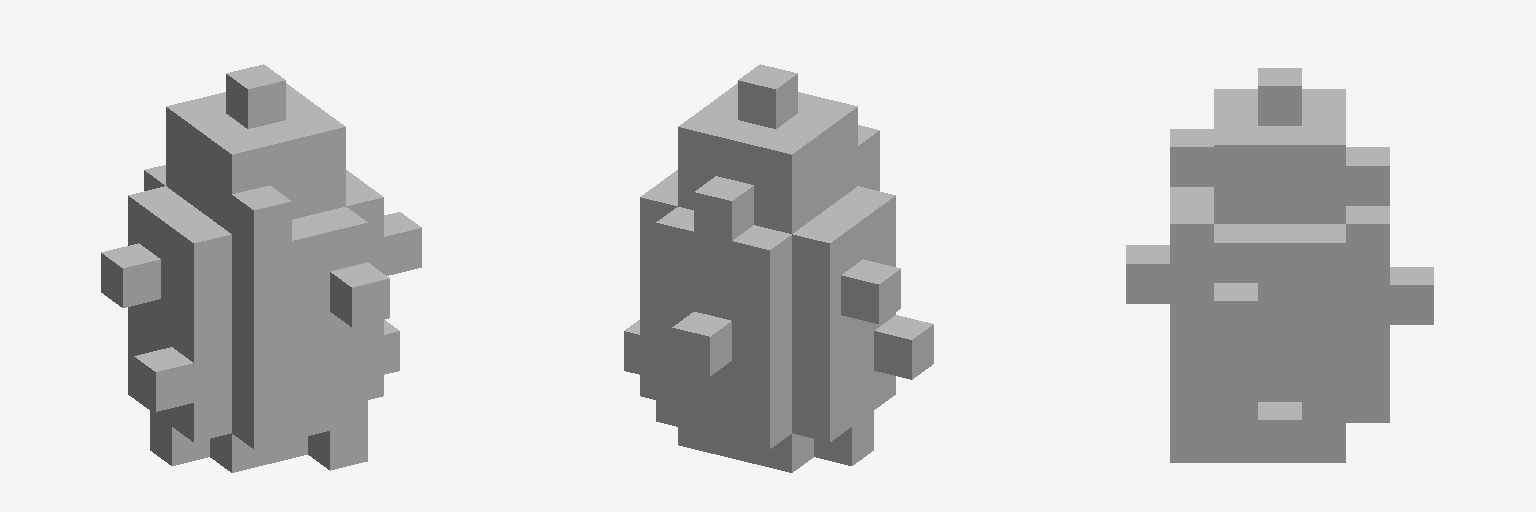
The model's file is 2_4 grav.obj.
The picture shows the model from 3 angles: view 1: azimuth 30°, elevation 25°; view 2: azimuth 150°, elevation 25°; view 3: azimuth 270°, elevation 25°; orthographic projection.
Visible parts, largest first — view 1: object 1; view 2: object 1; view 3: object 1.
Boxes of the visible parts, x1=… form: object 1: x1=101, y1=64, x2=421, y2=472; object 1: x1=624, y1=64, x2=933, y2=472; object 1: x1=1126, y1=68, x2=1433, y2=462.
Bounding box in the file's own units: 1.4 × 1.8 × 1.4.